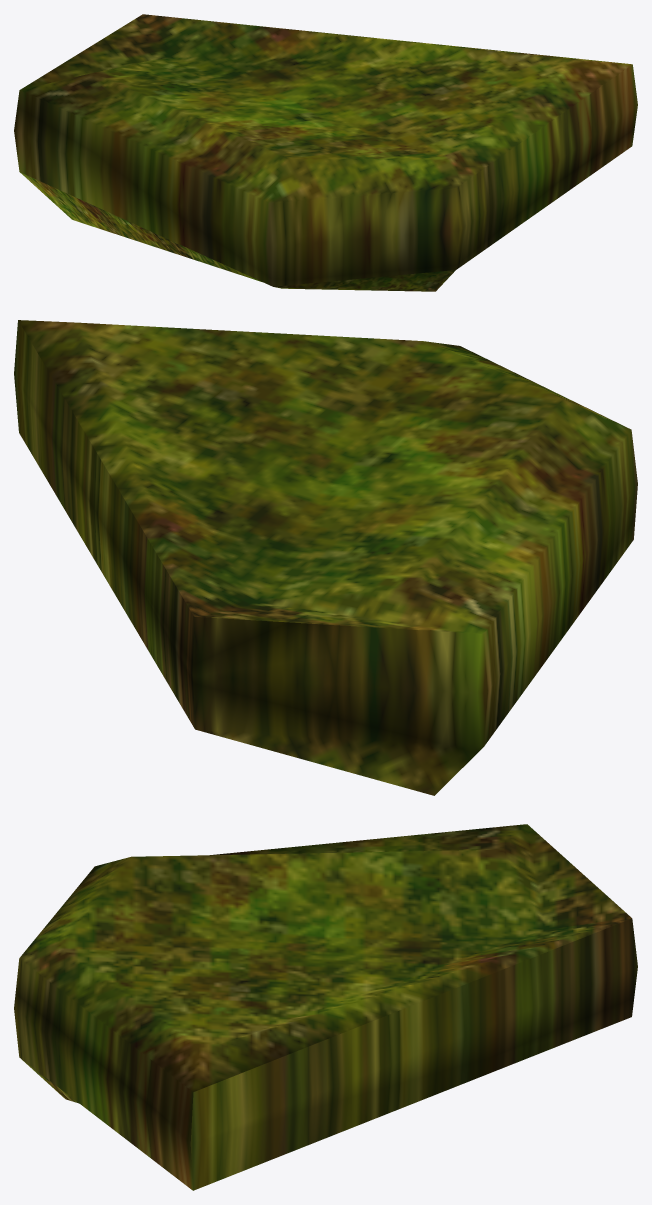
Rendered from TROLLHOLE02_RM_FALL_ROCK11.fbx.
3 renders of one model, top to bottom at view 1: azimuth 30°, elevation 25°; view 2: azimuth 150°, elevation 25°; view 3: azimuth 270°, elevation 25°, orthographic. The views are drawn at different scales.
Visible parts, largest first — view 1: TROLLHOLE02_RM_FALL_ROCK11; view 2: TROLLHOLE02_RM_FALL_ROCK11; view 3: TROLLHOLE02_RM_FALL_ROCK11.
Part boxes in pixels (x1,y1,x2,y2): TROLLHOLE02_RM_FALL_ROCK11: (14, 14, 637, 291); TROLLHOLE02_RM_FALL_ROCK11: (14, 320, 637, 795); TROLLHOLE02_RM_FALL_ROCK11: (14, 824, 637, 1190).
Size of the model in its own units: 18567 by 5869 by 17140.
Materials: 1 (1 with a texture image).
